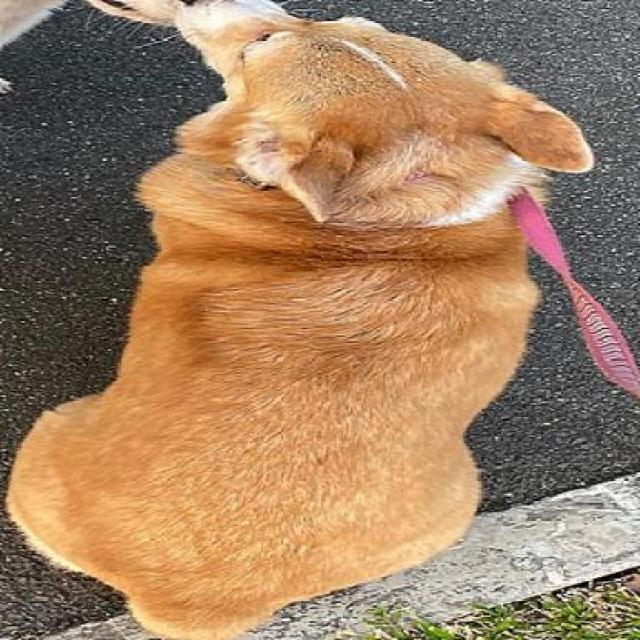Dog: (3, 0, 594, 638)
